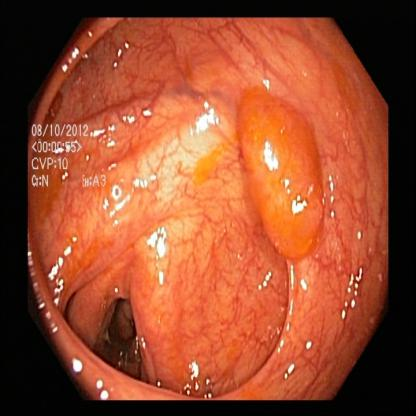Labels: (27, 119, 119, 194)
Polyps: (235, 81, 337, 276)
